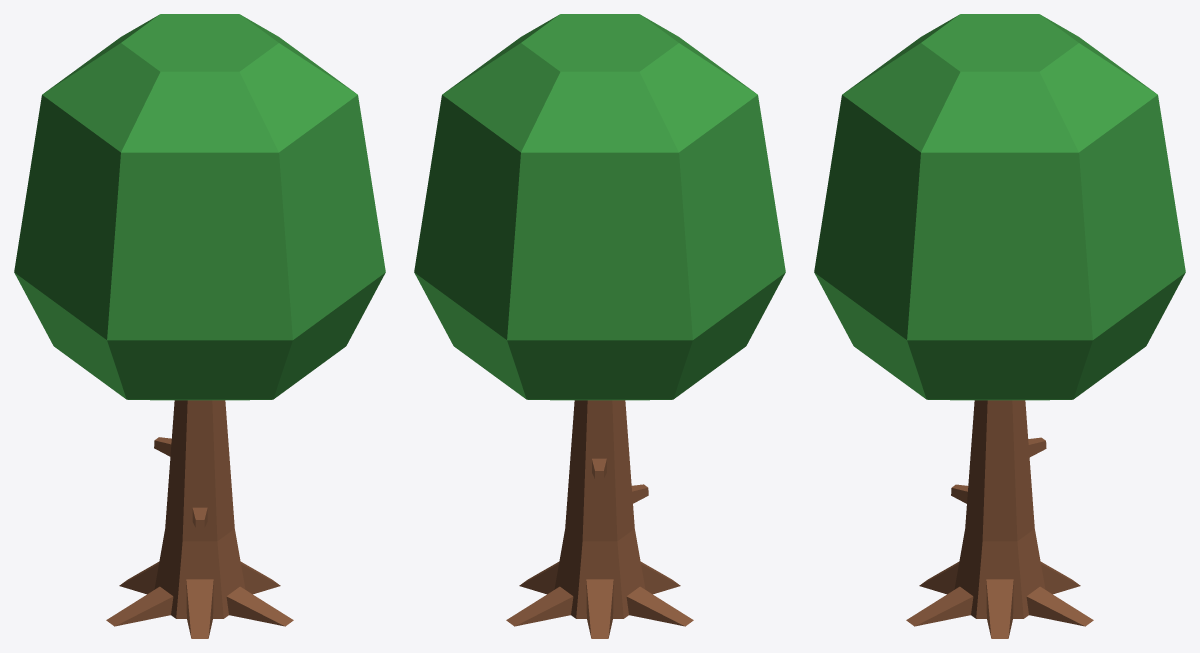
File: tree_9.fbx
3 renders of one model, left to right at view 1: azimuth 30°, elevation 25°; view 2: azimuth 150°, elevation 25°; view 3: azimuth 270°, elevation 25°, orthographic.
Visible parts, largest first — view 1: tree_9; view 2: tree_9; view 3: tree_9.
Boxes of the visible parts, left/top/right/bottom form: tree_9: left=14, top=14, right=385, bottom=638; tree_9: left=414, top=14, right=785, bottom=638; tree_9: left=814, top=14, right=1185, bottom=638.
Size of the model in its own units: 0.6406 by 1.23 by 0.7396.
Materials: 1 (1 with a texture image).
